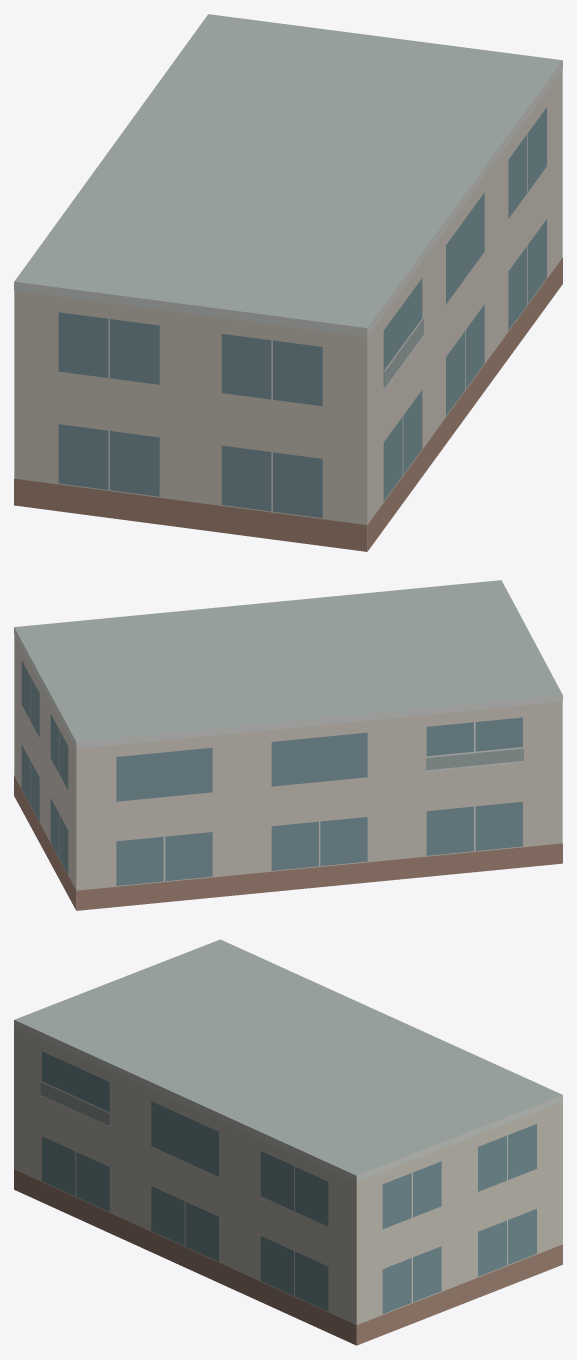
Rendered from survey-upis-32683856.glb.
3 renders of one model, top to bottom at view 1: azimuth 30°, elevation 25°; view 2: azimuth 150°, elevation 25°; view 3: azimuth 270°, elevation 25°, orthographic. The views are drawn at different scales.
Parts seen in each view (by area): view 1: survey-upis-32683856.tmp; view 2: survey-upis-32683856.tmp; view 3: survey-upis-32683856.tmp.
Part boxes in pixels (box(x1,y1,x2,y2)): survey-upis-32683856.tmp: box(14, 14, 562, 551); survey-upis-32683856.tmp: box(14, 580, 562, 910); survey-upis-32683856.tmp: box(14, 939, 562, 1345).
Bounding box in the file's own units: 18.22 × 6.1 × 17.88.
